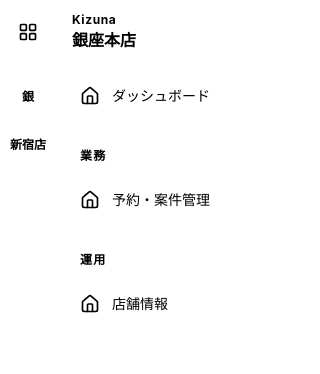
Test: Sidebar › 文脈の切替 › 店舗を選ぶと switchStore を呼び、パネルは遷移なしに店舗の文脈へ替わる
The width and height of the screenshot is (320, 374).
Check: the link "予約・案件管理" is shown, box [80,190,210,210]
What coordinates should you click on to do the following:
click the button named "グループ"
I would click on:
 (28, 32)
Its box is [8,12,48,52].
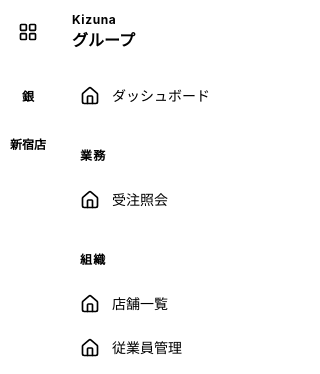
Check: the link "予約・案件管理" is gone
What coordinates should you click on to do the following:
click the button "新宿店"
I would click on:
 (28, 145)
Its box is [8,125,48,165].
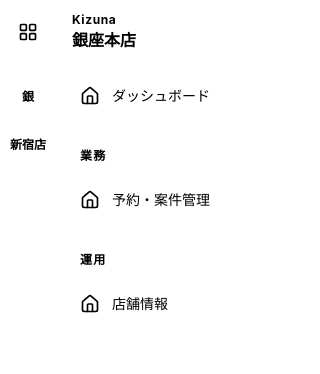
Check: the link "予約・案件管理" is shown, box [80,190,210,210]
